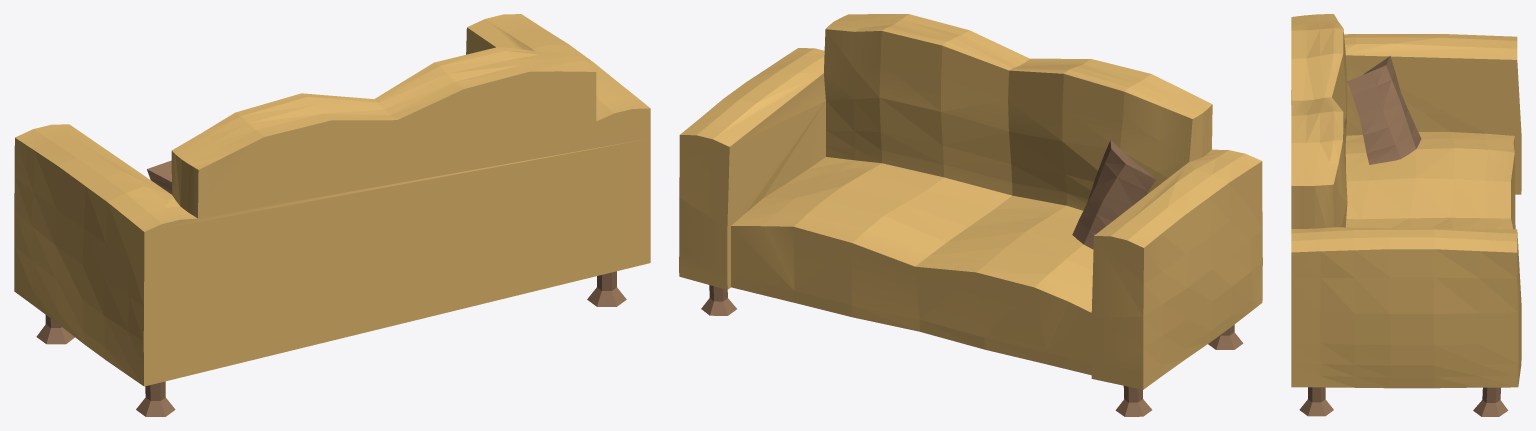
File: short couch.fbx
The picture shows the model from 3 angles, left to right: view 1: azimuth 30°, elevation 25°; view 2: azimuth 150°, elevation 25°; view 3: azimuth 270°, elevation 25°; orthographic projection. The views are drawn at different scales.
Visible parts, largest first — view 1: Sofa.1; view 2: Sofa.1; view 3: Sofa.1.
Part boxes in pixels (box(x1,y1,x2,y2)): Sofa.1: box(14, 14, 650, 416); Sofa.1: box(679, 14, 1262, 416); Sofa.1: box(1291, 14, 1521, 416).
Bounding box in the file's own units: 539 × 266 × 239.
